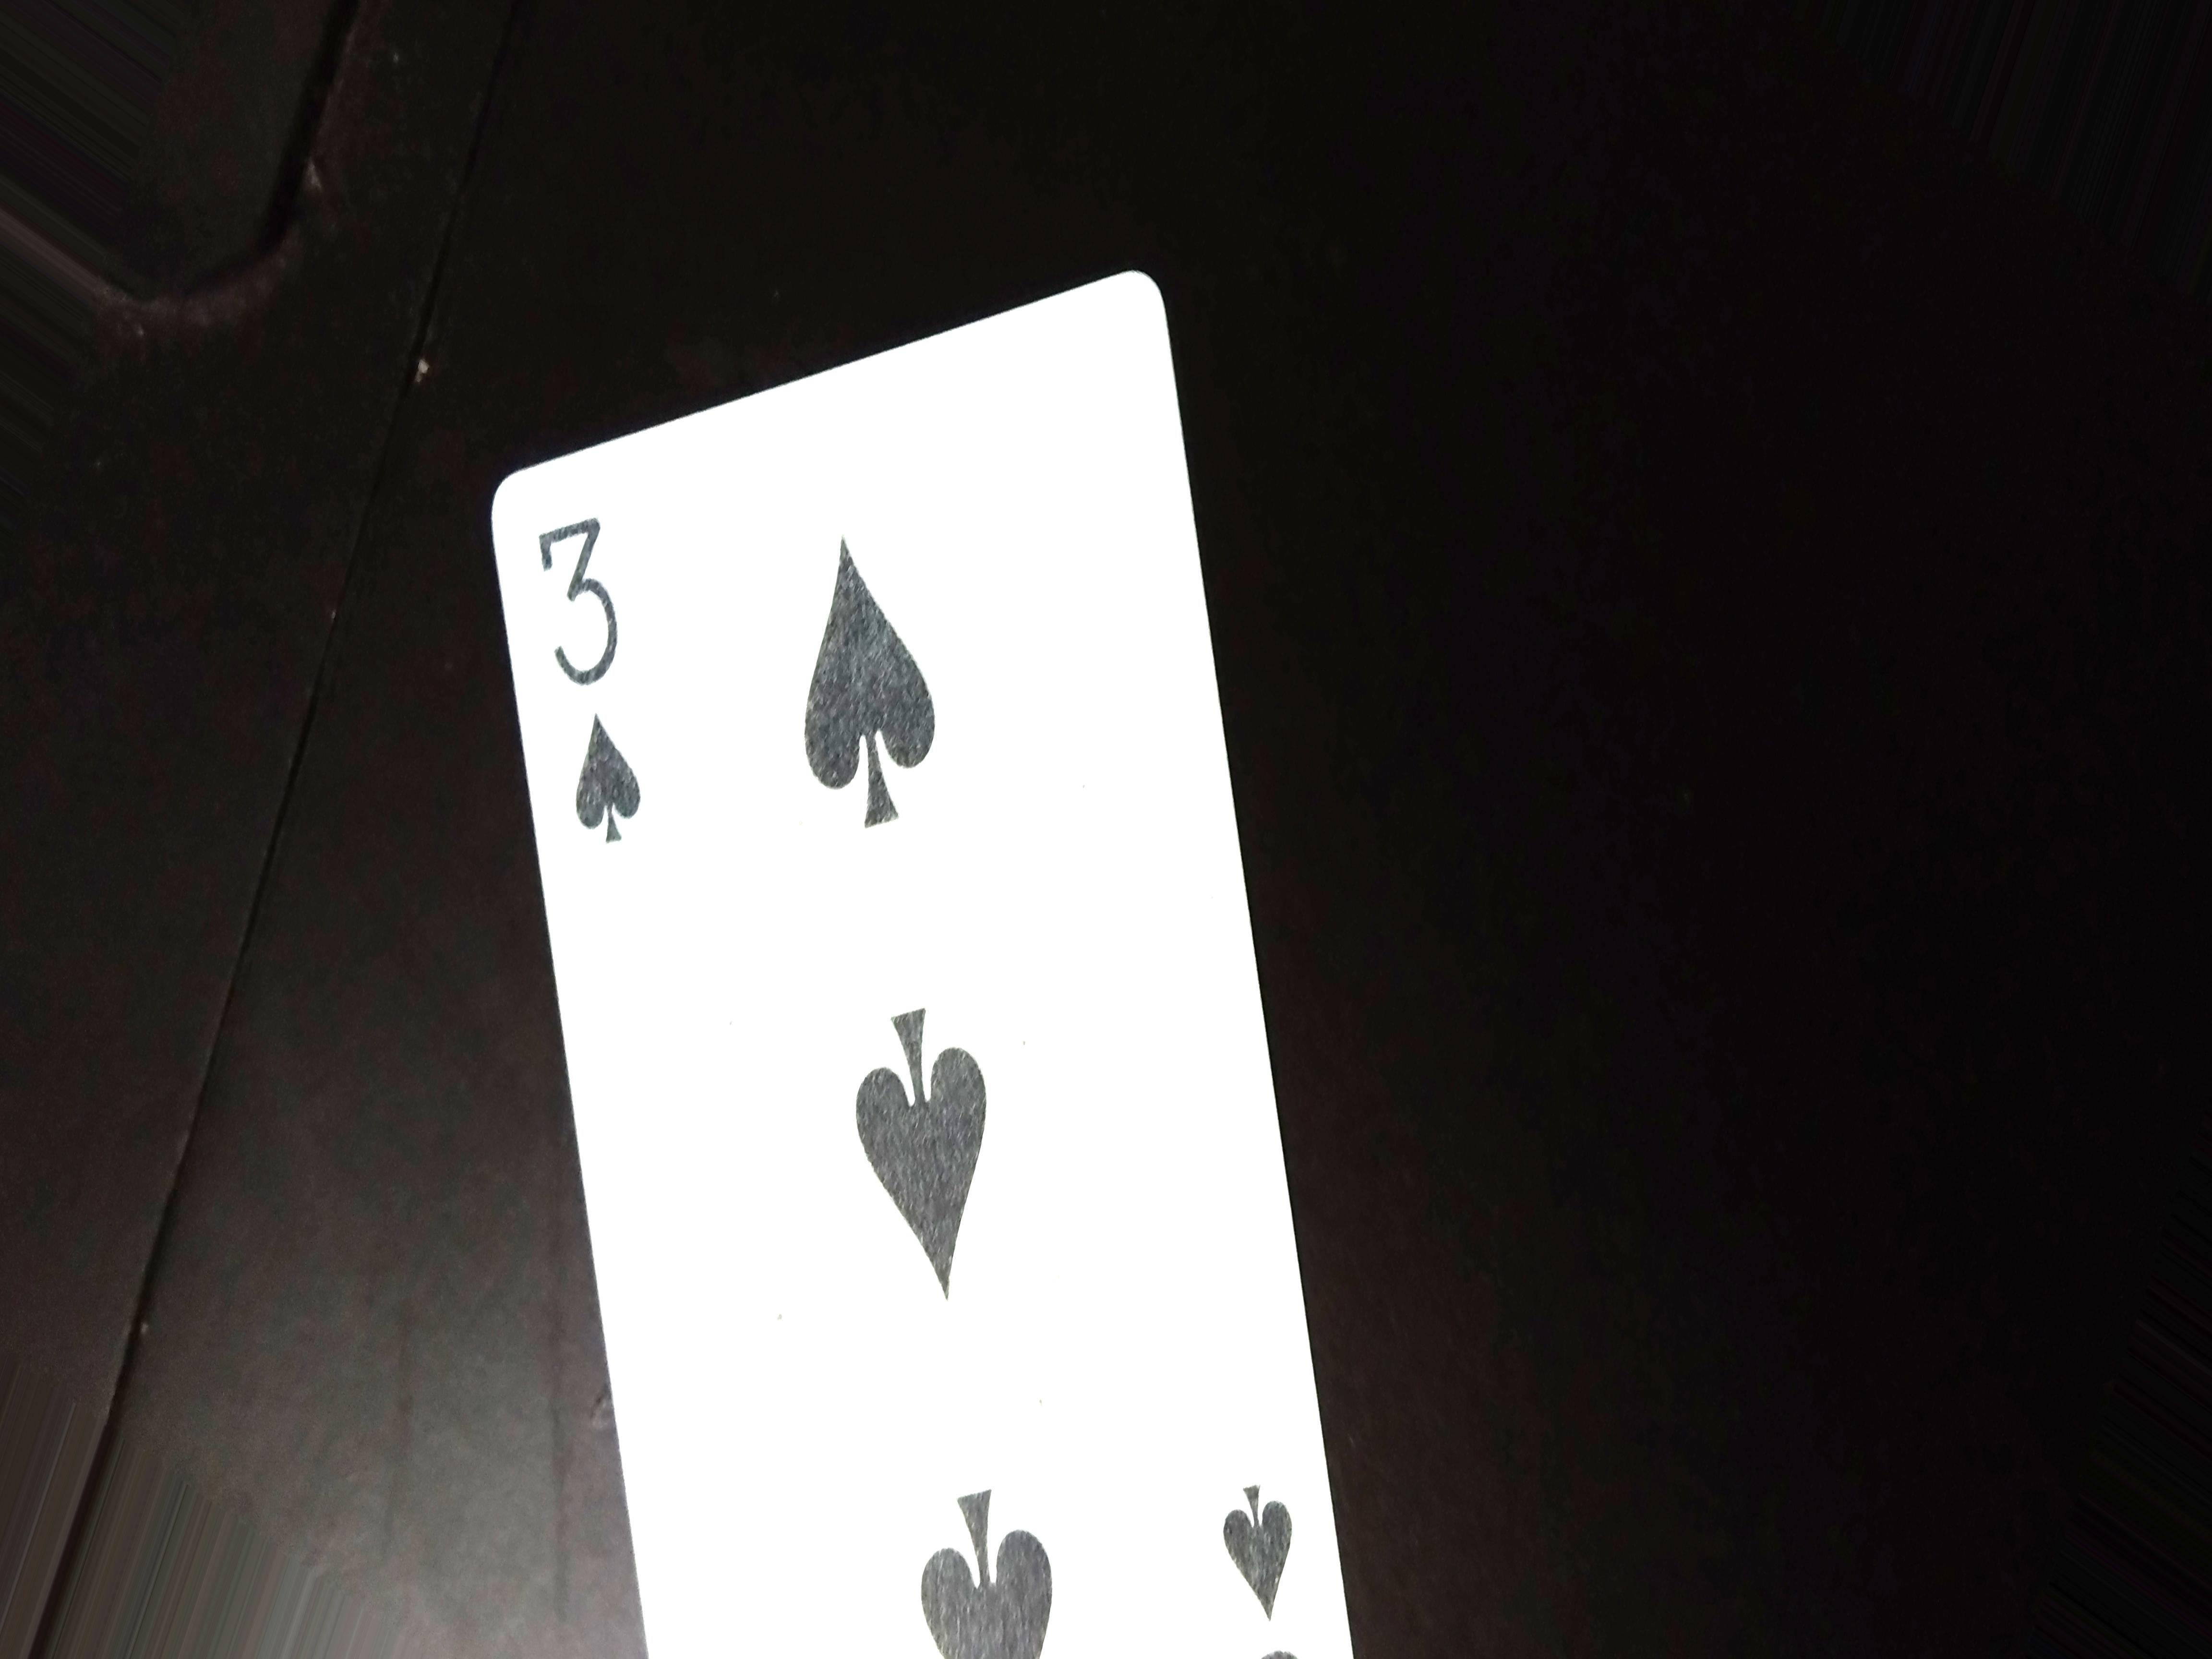3S: (526, 512, 674, 864)
